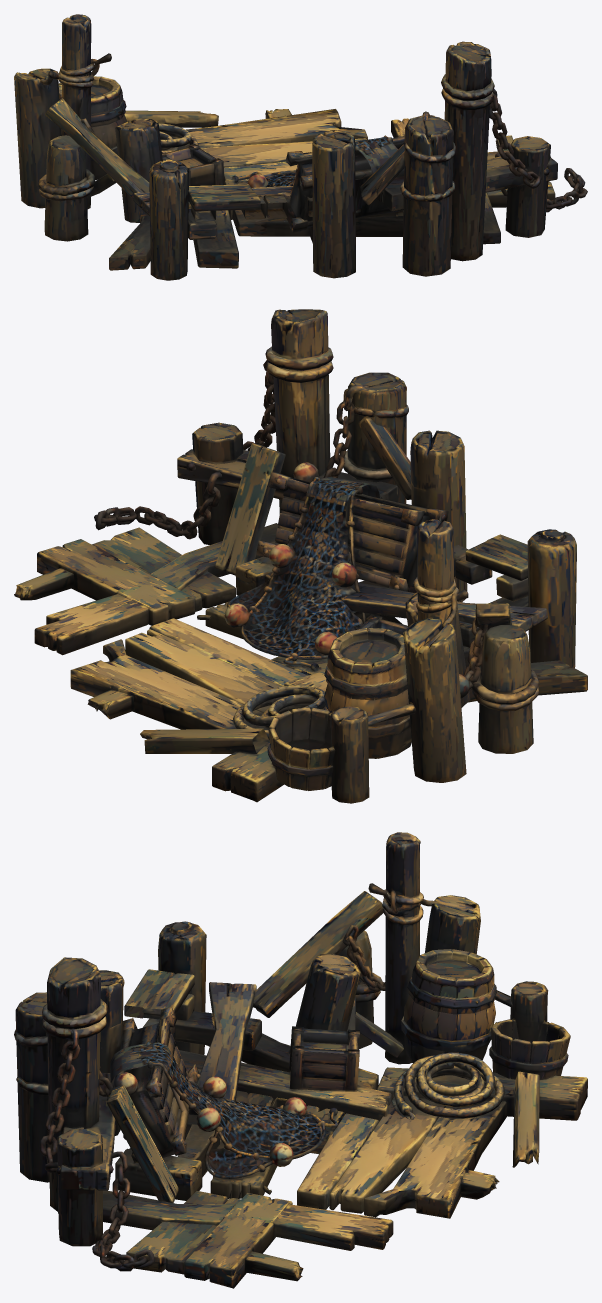
Rendered from tripo_convert_98e92e7c-da63-40d0-94e1-900ef09311d8.fbx.
The picture shows the model from 3 angles, top to bottom: view 1: azimuth 30°, elevation 25°; view 2: azimuth 150°, elevation 25°; view 3: azimuth 270°, elevation 25°; orthographic projection. The views are drawn at different scales.
Parts seen in each view (by area): view 1: tripo_node_98e92e7c; view 2: tripo_node_98e92e7c; view 3: tripo_node_98e92e7c.
Boxes of the visible parts, x1,y1,x2,y2 form: tripo_node_98e92e7c: [14, 14, 587, 280]; tripo_node_98e92e7c: [14, 309, 587, 803]; tripo_node_98e92e7c: [14, 832, 587, 1288].
Size of the model in its own units: 0.9995 by 0.4292 by 0.9243.
1 material, 1 textured.
